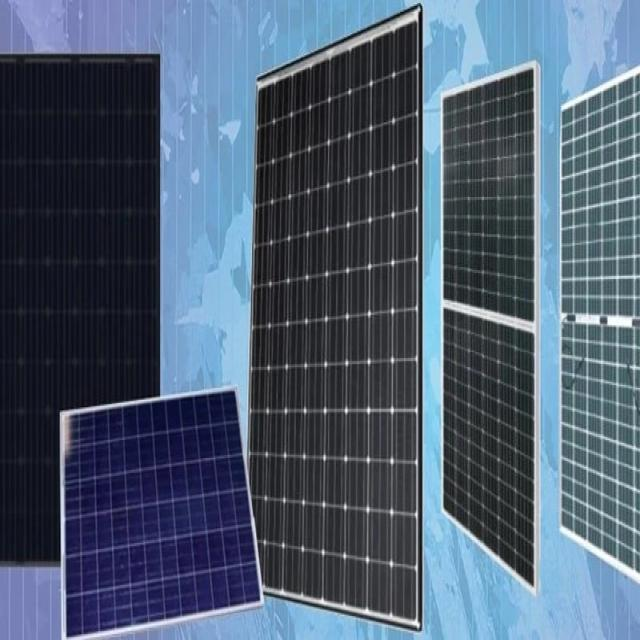clean-solar-panel: (249, 9, 421, 627), (0, 56, 160, 562), (62, 387, 262, 636)
